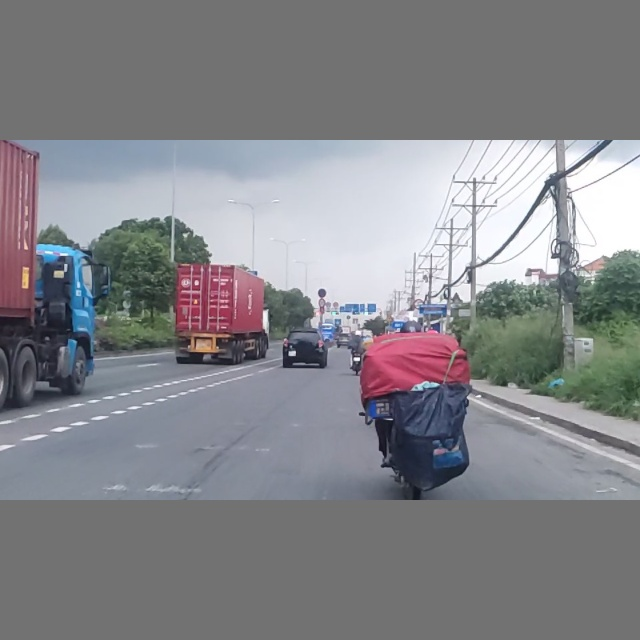P.130: (317, 288, 328, 298)
